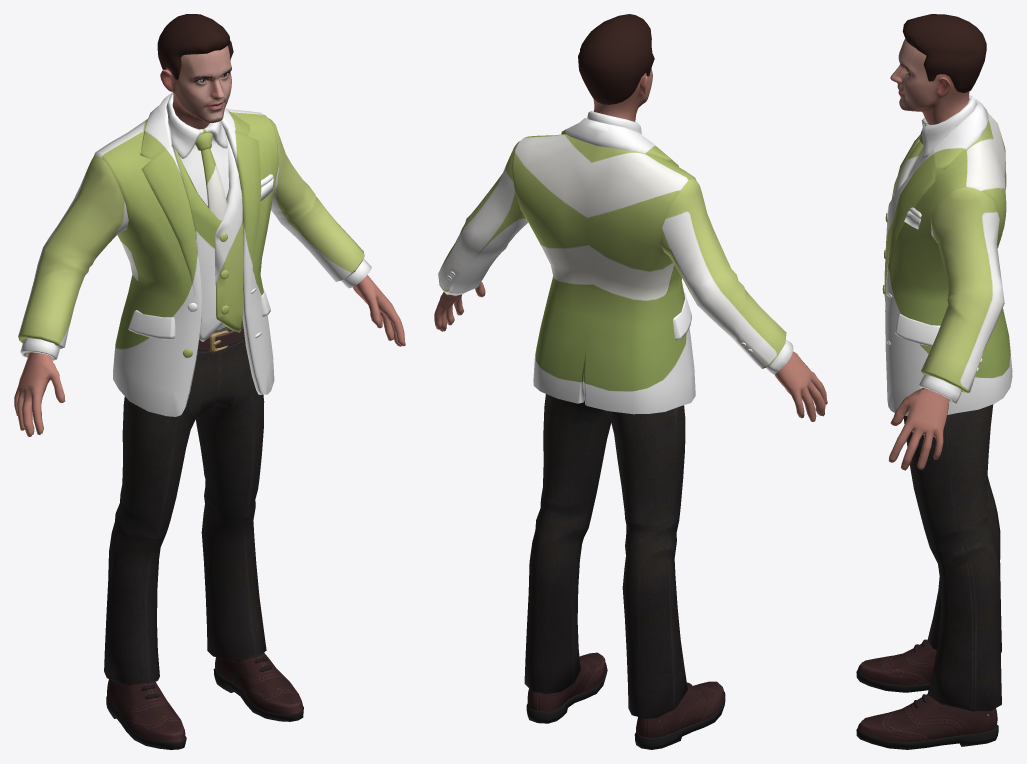
3 renders of one model, left to right at view 1: azimuth 30°, elevation 25°; view 2: azimuth 150°, elevation 25°; view 3: azimuth 270°, elevation 25°, orthographic.
Parts seen in each view (by area): view 1: Top, Pants, Shoes, Body, Skin, Hair; view 2: Top, Pants, Shoes, Hair, Body, Skin; view 3: Top, Pants, Shoes, Hair, Skin, Body.
Part boxes in pixels (left/top/right/bottom): Top: left=18, top=92, right=371, bottom=416; Pants: left=104, top=326, right=266, bottom=685; Shoes: left=106, top=652, right=303, bottom=749; Body: left=14, top=275, right=405, bottom=436; Skin: left=160, top=45, right=231, bottom=129; Hair: left=157, top=14, right=233, bottom=79; Top: left=438, top=111, right=793, bottom=414; Pants: left=524, top=394, right=687, bottom=719; Shoes: left=526, top=652, right=725, bottom=749; Hair: left=578, top=14, right=654, bottom=104; Body: left=434, top=282, right=827, bottom=721; Skin: left=593, top=68, right=652, bottom=121; Top: left=882, top=95, right=1012, bottom=416; Pants: left=903, top=404, right=1001, bottom=711; Shoes: left=856, top=639, right=998, bottom=749; Hair: left=902, top=14, right=986, bottom=92; Skin: left=890, top=39, right=969, bottom=124; Body: left=888, top=388, right=988, bottom=715.
Bounding box in the file's own units: 1.06 × 1.86 × 0.3773.
8 materials, 8 textured.
